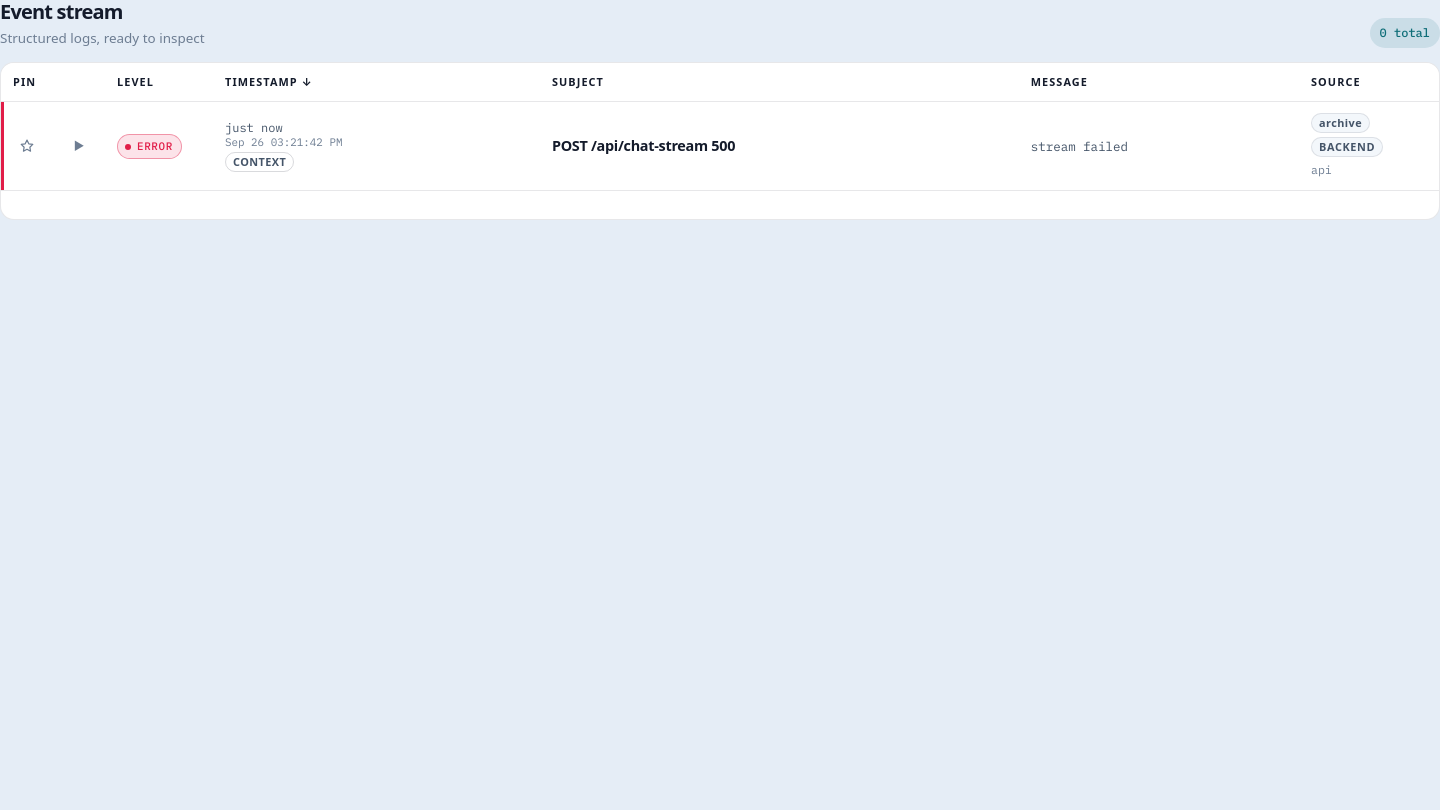
LogTable (lazy details) › replaces the archive source block with env, pod, route, and origin
Expected: the text "archive" is shown, [1311,114,1370,134]
Click the button "▶" at (79, 146), box [65,132,93,160]
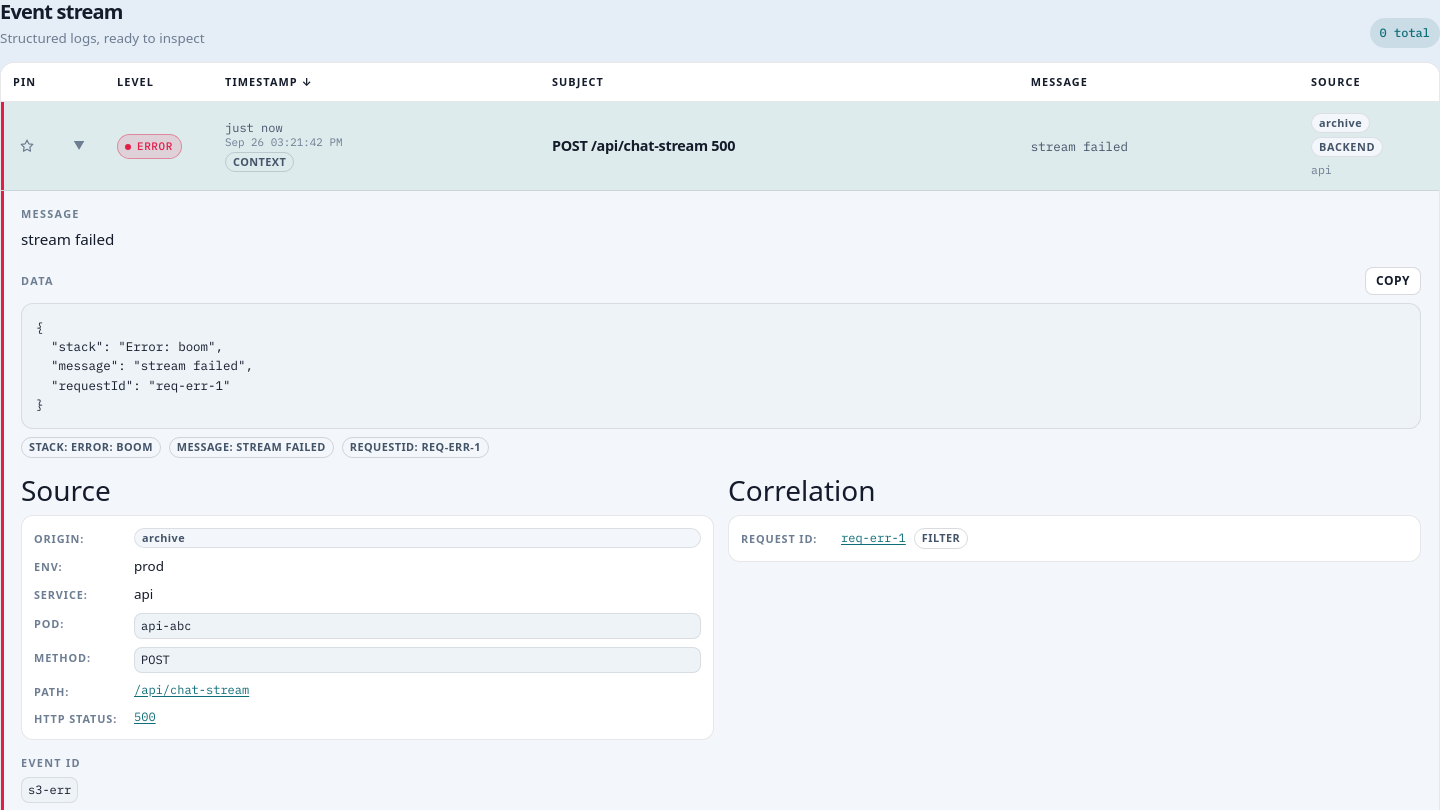
Expected: the text "prod" is shown, [134,557,164,575]
Expected: the text "api-abc" is shown, [134,612,701,638]
Expected: the button "/api/chat-stream" is shown, [134,680,701,698]
